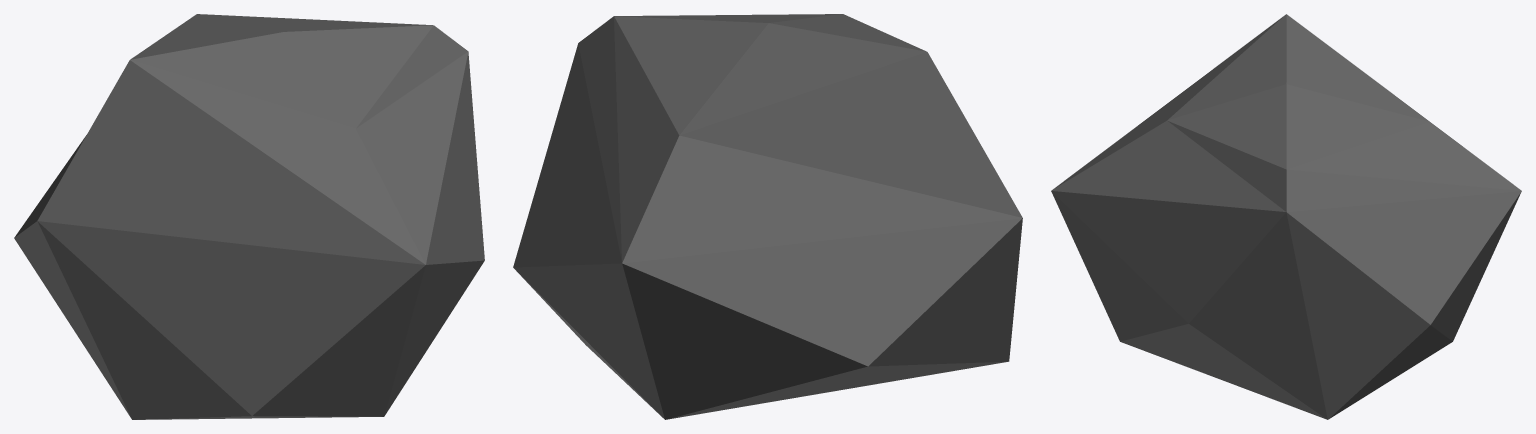
File: Rock5.fbx
3 views of the same model, side by side, from view 1: azimuth 30°, elevation 25°; view 2: azimuth 150°, elevation 25°; view 3: azimuth 270°, elevation 25° (orthographic). The views are drawn at different scales.
Visible parts, largest first — view 1: Rock5; view 2: Rock5; view 3: Rock5.
Part boxes in pixels (bbox=[...]): Rock5: bbox=[14, 14, 484, 419]; Rock5: bbox=[513, 14, 1022, 419]; Rock5: bbox=[1051, 14, 1521, 419].
Size of the model in its own units: 9.07 by 6.85 by 10.36.
